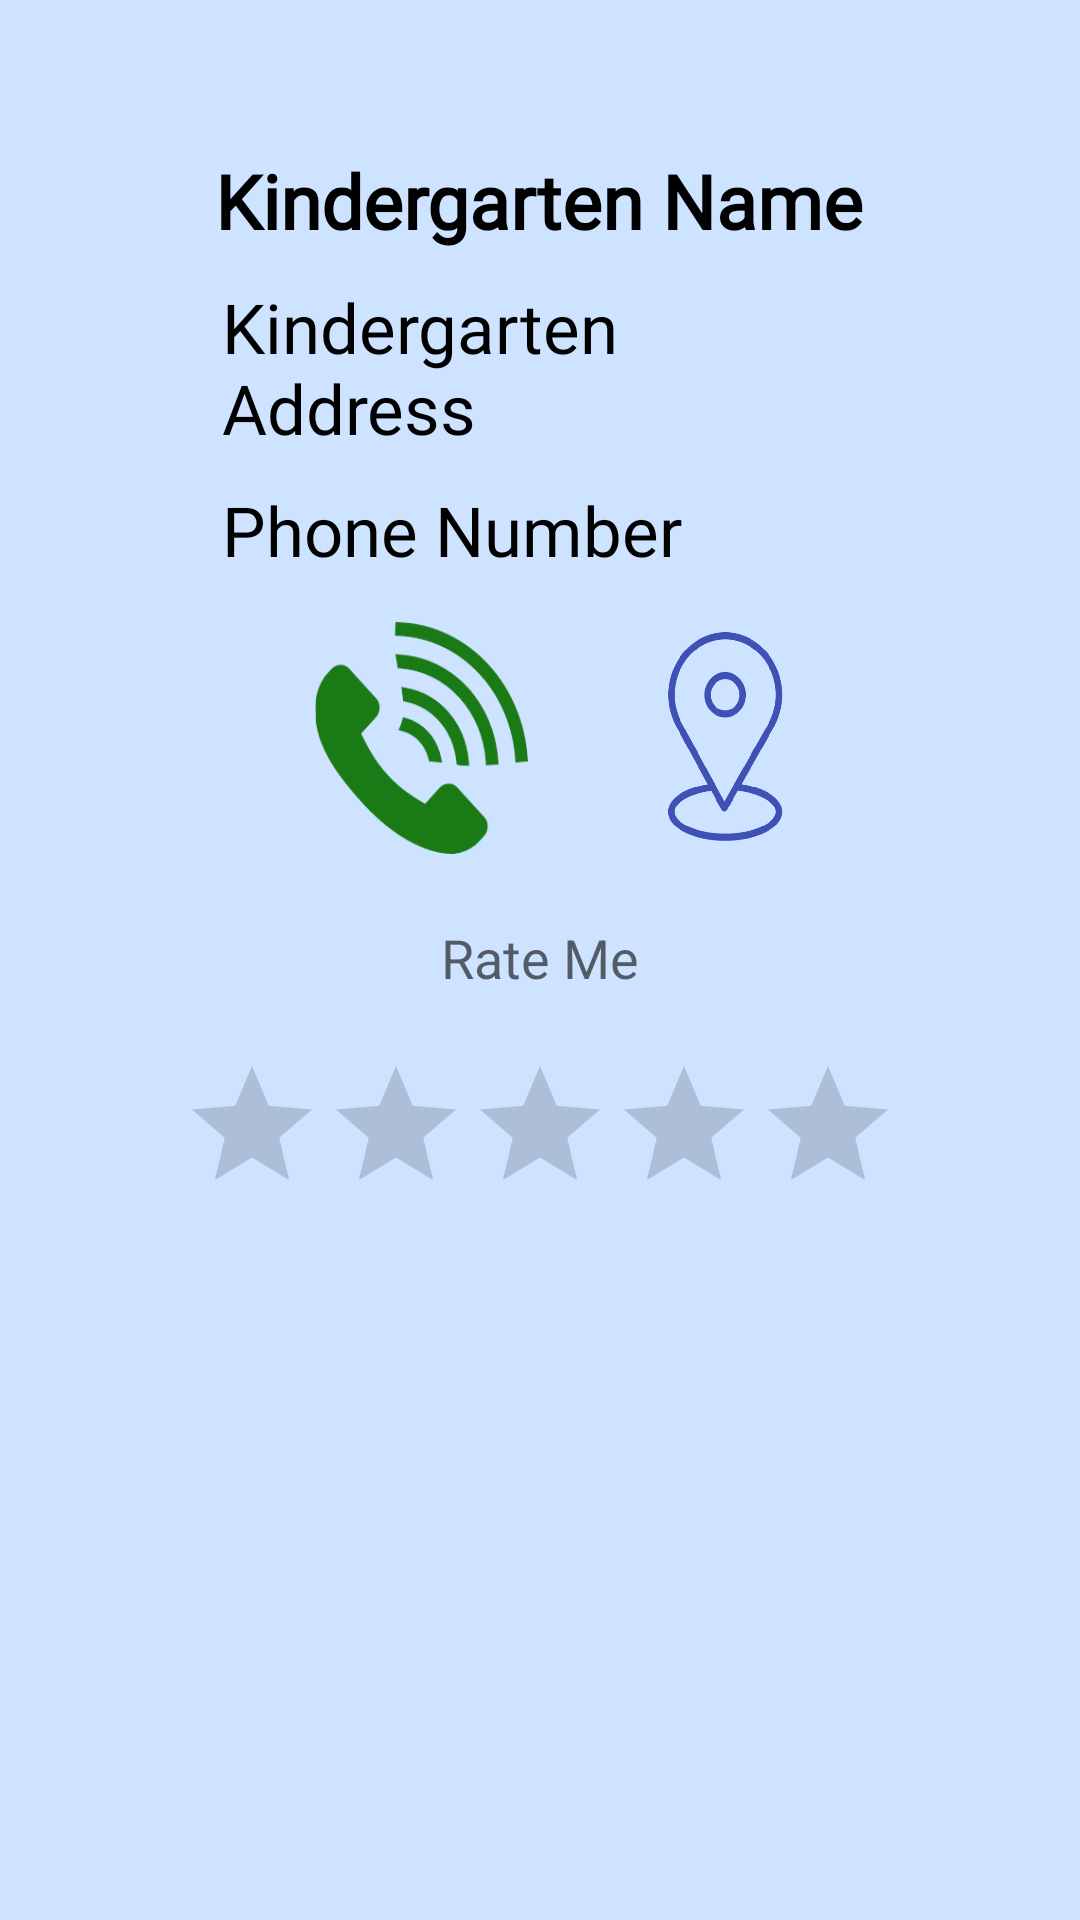

Screen size 1080*1920. Icon name, then its center in pixels as [x,y]:
call: [421,738]
location: [725,736]
